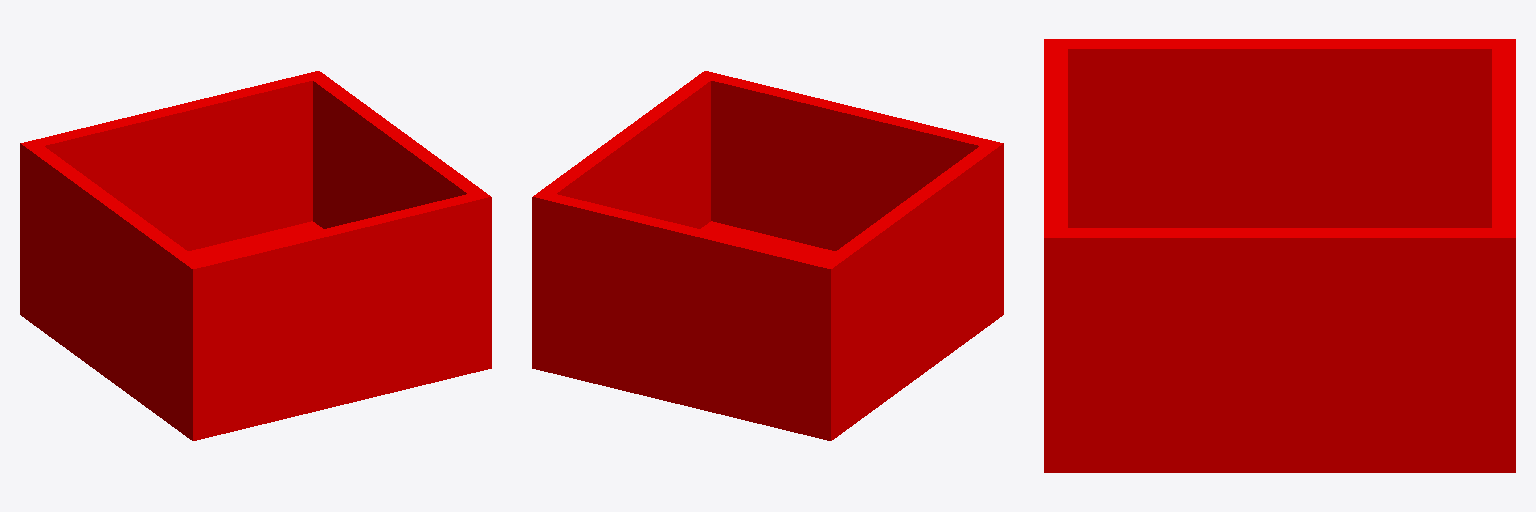
URDF robot description (root):
<?xml version="0.0" ?>
<robot name="root">
  <link name="base">
    <inertial>
      <origin rpy="0 0 0" xyz="0 0 0"/>
      <mass value="0.001"/>
      <inertia ixx="-4.46E-06" ixy="-4.55E-07" ixz="1.95E-06" iyy="-2.47E-06" iyz="8.51E-08" izz="2.17E-06"/>
    </inertial>
    <visual>
      <origin rpy="0 0 0" xyz="0 0 -0.05"/>
      <geometry>
        <box size=".2 .2 0.02"/>
      </geometry>
      <material name="red">
      </material> 
    </visual>
    <collision>
      <origin rpy="0 0 0" xyz="0 0 -0.05"/>
      <geometry>
        <box size=".2 .2 0.02"/>
      </geometry>
    </collision>
  </link>

  <link name="left">
    <inertial>
      <origin rpy="0 0 0" xyz="0 0 0"/>
      <mass value="0.001"/>
      <inertia ixx="-4.46E-06" ixy="-4.55E-07" ixz="1.95E-06" iyy="-2.47E-06" iyz="8.51E-08" izz="2.17E-06"/>
    </inertial>
    <visual>
      <origin rpy="0 0 0" xyz="0.095 0.0 0"/>
      <geometry>
        <box size=".01 .2 0.1"/>
      </geometry>
      <material name="red">
      </material> 
    </visual>
    <collision>
      <origin rpy="0 0 0" xyz="0.095 0 0"/>
      <geometry>
        <box size=".01 .2 0.1"/>
      </geometry>
    </collision>
  </link>

  <joint name="left_joint" type="fixed">
    <origin rpy="0 0 0" xyz="0 0 0"/>
    <parent link="base"/>
    <child link="left"/>
  </joint>

  <link name="right">
    <inertial>
      <origin rpy="0 0 0" xyz="0 0 0"/>
      <mass value="0.001"/>
      <inertia ixx="-4.46E-06" ixy="-4.55E-07" ixz="1.95E-06" iyy="-2.47E-06" iyz="8.51E-08" izz="2.17E-06"/>
    </inertial>
    <visual>
      <origin rpy="0 0 0" xyz="-0.095 0.0 0"/>
      <geometry>
        <box size=".01 .2 0.1"/>
      </geometry>
      <material name="red">
      </material> 
    </visual>
    <collision>
      <origin rpy="0 0 0" xyz="-0.095 0 0"/>
      <geometry>
        <box size=".01 .2 0.1"/>
      </geometry>
    </collision>
  </link>

  <joint name="right_joint" type="fixed">
    <origin rpy="0 0 0" xyz="0 0 0"/>
    <parent link="base"/>
    <child link="right"/>
  </joint>

  <link name="front">
    <inertial>
      <origin rpy="0 0 0" xyz="0 0 0"/>
      <mass value="0.001"/>
      <inertia ixx="-4.46E-06" ixy="-4.55E-07" ixz="1.95E-06" iyy="-2.47E-06" iyz="8.51E-08" izz="2.17E-06"/>
    </inertial>
    <visual>
      <origin rpy="0 0 0" xyz="0 0.095 0"/>
      <geometry>
        <box size=".2 .01 0.1"/>
      </geometry>
      <material name="red">
      </material> 
    </visual>
    <collision>
      <origin rpy="0 0 0" xyz="0 0.095 0"/>
      <geometry>
        <box size=".2 .01 0.1"/>
      </geometry>
    </collision>
  </link>

  <joint name="front_joint" type="fixed">
    <origin rpy="0 0 0" xyz="0 0 0"/>
    <parent link="base"/>
    <child link="front"/>
  </joint>

  <link name="rear">
    <inertial>
      <origin rpy="0 0 0" xyz="0 0 0"/>
      <mass value="0.001"/>
      <inertia ixx="-4.46E-06" ixy="-4.55E-07" ixz="1.95E-06" iyy="-2.47E-06" iyz="8.51E-08" izz="2.17E-06"/>
    </inertial>
    <visual>
      <origin rpy="0 0 0" xyz="0 -0.095 0"/>
      <geometry>
        <box size=".2 .01 0.1"/>
      </geometry>
      <material name="red">
      </material> 
    </visual>
    <collision>
      <origin rpy="0 0 0" xyz="0 -0.095 0"/>
      <geometry>
        <box size=".2 .01 0.1"/>
      </geometry>
    </collision>
  </link>

  <joint name="rear_joint" type="fixed">
    <origin rpy="0 0 0" xyz="0 0 0"/>
    <parent link="base"/>
    <child link="rear"/>
  </joint>


  <material name="panda_white">
    <color rgba="1. 1. 1. 1."/>
  </material>
  <material name="red">
    <color rgba="1.0 0. 0. 1.0"/>
  </material>
  <material name="blue">
    <color rgba="0. 0. 1. 1.0"/>
  </material>
  <material name="green">
    <color rgba="0. 1. 0. 1.0"/>
  </material>
<material name="Yellow">
  <color rgba="0.949 0.878 0.0392 1.0"/>
</material>
<material name="Blue">
  <color rgba="0.12156 0.3804 0.6745 1.0"/>
</material>
<material name="Red">
  <color rgba="0.9254901 0.243137 0.086274509 1.0"/>
</material>


</robot>

--- Facts derived from the render (not from the file) ---
3 views of the same robot in one strip: view 1: azimuth 30°, elevation 25°; view 2: azimuth 150°, elevation 25°; view 3: azimuth 270°, elevation 25° (orthographic).
Robot: root — 5 links, 4 joints (4 fixed); root link base; default pose: every joint at zero.
Visible links, largest first — view 1: rear, front, right, left, base; view 2: front, rear, right, left, base; view 3: left, right, base, front, rear.
Link boxes in pixels (x1,y1,x2,y2): rear: [184, 191, 491, 424]; front: [20, 71, 326, 302]; right: [20, 140, 207, 423]; left: [305, 71, 491, 354]; base: [20, 221, 491, 440]; front: [532, 192, 839, 424]; rear: [697, 71, 1003, 293]; right: [816, 140, 1003, 423]; left: [532, 71, 717, 355]; base: [532, 221, 1003, 440]; left: [1044, 228, 1515, 451]; right: [1044, 39, 1515, 227]; base: [1044, 430, 1515, 472]; front: [1492, 39, 1515, 451]; rear: [1044, 39, 1067, 451].
Size in the robot's own frame: 0.2 by 0.2 by 0.11 metres.
Geometry: primitives only (box / cylinder / sphere), no mesh files.